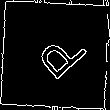P_SW: (23, 24, 87, 86)
